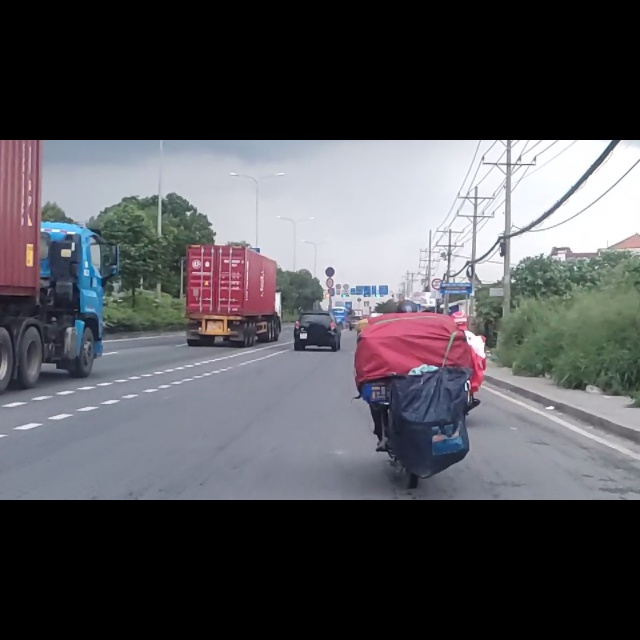bien_chi_dan: (432, 245, 443, 268), (325, 224, 336, 243)
